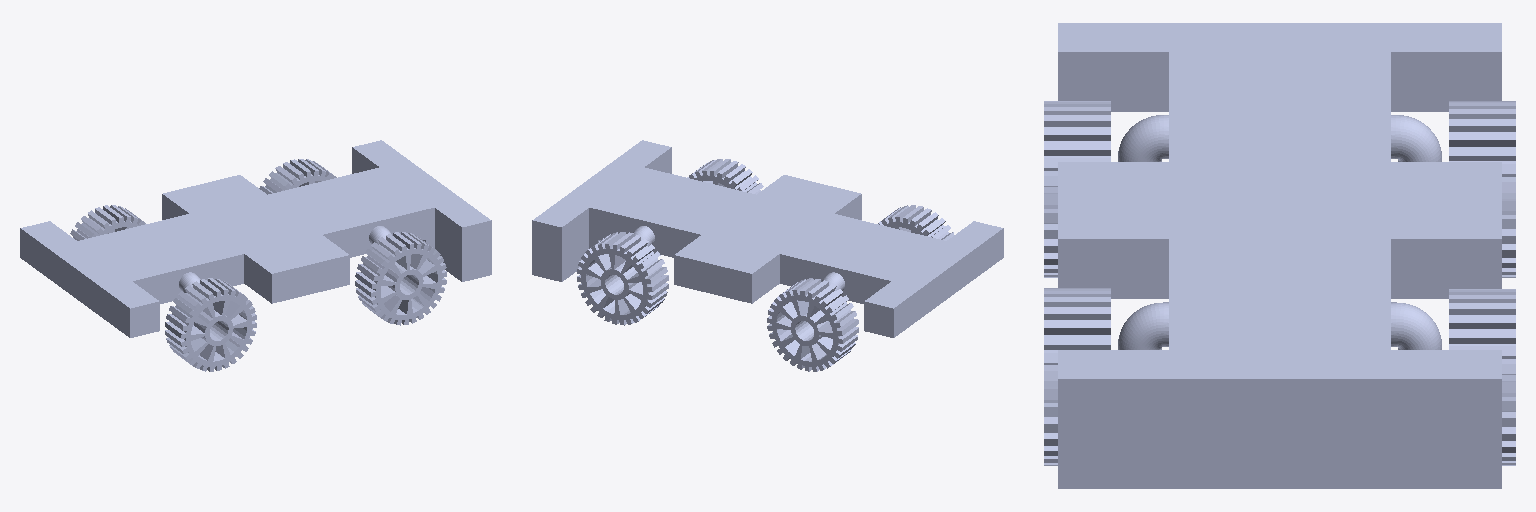
The robot description file, URDF, robot "optimus":
<?xml version="1.0" encoding="utf-8"?>
<!-- =================================================================================== -->
<!-- |    This document was autogenerated by xacro from optimus.urdf.xacro             | -->
<!-- |    EDITING THIS FILE BY HAND IS NOT RECOMMENDED                                 | -->
<!-- =================================================================================== -->
<robot name="optimus">
  <link name="base_link">
  </link>
  <joint name="base_link_joint" type="fixed">
    <origin rpy="0 0 0" xyz="0 0 0"/>
    <parent link="base_link"/>
    <child link="chassis_link"/>
  </joint>
  <link name="chassis_link">
    <inertial>
      <origin rpy="0 0 0" xyz="0.0459672296914867 -6.86455399960119E-18 0.159649135028823"/>
      <mass value="27.6398700040798"/>
      <inertia ixx="0.443915191264158" ixy="-4.98377702946499E-18" ixz="0.0794061625736433" iyy="2.52334514759194" iyz="-4.33942541392612E-18" izz="2.9153112034191"/>
    </inertial>
    <visual>
      <origin rpy="0 0 0" xyz="0 0 0"/>
      <geometry>
        <mesh filename="package://optimus/meshes/chassis_link.STL"/>
      </geometry>
      <material name="Gazebo/DarkGrey">
        <color rgba="0.792156862745098 0.819607843137255 0.933333333333333 1"/>
      </material>
    </visual>
    <collision>
      <origin rpy="0 0 0" xyz="0 0 0"/>
      <geometry>
        <mesh filename="package://optimus/meshes/chassis_link.STL"/>
      </geometry>
    </collision>
  </link>
  <link name="FR_mid_connector_link">
    <inertial>
      <origin rpy="0 0 0" xyz="-6.656468502797E-05 -0.025165065848375 -0.006584934151625"/>
      <mass value="0.111218290944422"/>
      <inertia ixx="4.72825951749508E-05" ixy="-4.70682175763755E-22" ixz="6.95276245951139E-22" iyy="4.15796957339012E-05" iyz="-8.78847811785193E-06" izz="4.15796957339012E-05"/>
    </inertial>
    <visual>
      <origin rpy="0 0 0" xyz="0 0 0"/>
      <geometry>
        <mesh filename="package://optimus/meshes/FR_mid_connector_link.STL"/>
      </geometry>
      <material name="">
        <color rgba="0.792156862745098 0.819607843137255 0.933333333333333 1"/>
      </material>
    </visual>
    <collision>
      <origin rpy="0 0 0" xyz="0 0 0"/>
      <geometry>
        <mesh filename="package://optimus/meshes/FR_mid_connector_link.STL"/>
      </geometry>
    </collision>
  </link>
  <joint name="FR_mid_connector_joint" type="fixed">
    <origin rpy="0 0 0" xyz="0.25407 -0.127 0.16555"/>
    <parent link="chassis_link"/>
    <child link="FR_mid_connector_link"/>
    <axis xyz="0 0 0"/>
  </joint>
  <link name="FR_wheel_connector_link">
    <inertial>
      <origin rpy="0 0 0" xyz="0 -0.00803311644068047 -0.025165065848375"/>
      <mass value="0.111218290944422"/>
      <inertia ixx="4.72825951749508E-05" ixy="-6.78684332773796E-22" ixz="-1.62847215507893E-22" iyy="4.15796957339012E-05" iyz="-8.78847811785193E-06" izz="4.15796957339012E-05"/>
    </inertial>
    <visual>
      <origin rpy="0 0 0" xyz="0 0 0"/>
      <geometry>
        <mesh filename="package://optimus/meshes/FR_wheel_connector_link.STL"/>
      </geometry>
      <material name="">
        <color rgba="0.792156862745098 0.819607843137255 0.933333333333333 1"/>
      </material>
    </visual>
    <collision>
      <origin rpy="0 0 0" xyz="0 0 0"/>
      <geometry>
        <mesh filename="package://optimus/meshes/FR_wheel_connector_link.STL"/>
      </geometry>
    </collision>
  </link>
  <joint name="FR_wheel_connector_joint" type="revolute">
    <origin rpy="0 0 0" xyz="-6.6565E-05 -0.033198 -0.03175"/>
    <parent link="FR_mid_connector_link"/>
    <child link="FR_wheel_connector_link"/>
    <axis xyz="0 0 1"/>
    <limit effort="10.0" lower="-0.6" upper="0.6" velocity="10.0"/>
    <!-- <dynamics
      friction="0.1"
      damping="0.1" /> -->
  </joint>
  <transmission name="FR_wheel_connector_trans">
    <type>transmission_interface/SimpleTransmission</type>
    <joint name="FR_wheel_connector_joint">
      <hardwareInterface>hardware_interface/PositionJointInterface</hardwareInterface>
    </joint>
    <actuator name="FR_wheel_connector_actuator">
      <mechanicalReduction>1</mechanicalReduction>
      <hardwareInterface>hardware_interface/PositionJointInterface</hardwareInterface>
    </actuator>
  </transmission>
  <link name="FR_wheel_link">
    <inertial>
      <origin rpy="0 0 0" xyz="-6.65646850267487E-05 -0.0381000000000005 -0.00144818228905787"/>
      <mass value="1.37478617203279"/>
      <inertia ixx="0.00468685600007827" ixy="-1.44994942300076E-18" ixz="-7.59946436264757E-19" iyy="0.00804327643003352" iyz="-3.6201576967064E-18" izz="0.00468685600007826"/>
    </inertial>
    <visual>
      <origin rpy="0 0 0" xyz="0 0 0"/>
      <geometry>
        <mesh filename="package://optimus/meshes/FR_wheel_link.STL"/>
      </geometry>
      <material name="">
        <color rgba="0.792156862745098 0.819607843137255 0.933333333333333 1"/>
      </material>
    </visual>
    <collision>
      <origin rpy="0 0 0" xyz="0 0 0"/>
      <geometry>
        <mesh filename="package://optimus/meshes/FR_wheel_link.STL"/>
      </geometry>
    </collision>
  </link>
  <joint name="FR_wheel_joint" type="continuous">
    <origin rpy="0 0 0" xyz="6.656468502797E-05 -0.0331981822890555 -0.03175"/>
    <parent link="FR_wheel_connector_link"/>
    <child link="FR_wheel_link"/>
    <axis xyz="0 1 0"/>
  </joint>
  <transmission name="FR_wheel_trans">
    <type>transmission_interface/SimpleTransmission</type>
    <joint name="FR_wheel_joint">
      <hardwareInterface>hardware_interface/VelocityJointInterface</hardwareInterface>
    </joint>
    <actuator name="FR_wheel_actuator">
      <mechanicalReduction>1</mechanicalReduction>
      <hardwareInterface>hardware_interface/VelocityJointInterface</hardwareInterface>
    </actuator>
  </transmission>
  <link name="FL_mid_connector_link">
    <inertial>
      <origin rpy="0 0 0" xyz="0 0.025165065848375 -0.00803311644068052"/>
      <mass value="0.111218290944422"/>
      <inertia ixx="4.72825951749508E-05" ixy="-4.78762785695293E-22" ixz="-2.46370706228464E-21" iyy="4.15796957339013E-05" iyz="8.78847811785194E-06" izz="4.15796957339012E-05"/>
    </inertial>
    <visual>
      <origin rpy="0 0 0" xyz="0 0 0"/>
      <geometry>
        <mesh filename="package://optimus/meshes/FL_mid_connector_link.STL"/>
      </geometry>
      <material name="">
        <color rgba="0.792156862745098 0.819607843137255 0.933333333333333 1"/>
      </material>
    </visual>
    <collision>
      <origin rpy="0 0 0" xyz="0 0 0"/>
      <geometry>
        <mesh filename="package://optimus/meshes/FL_mid_connector_link.STL"/>
      </geometry>
    </collision>
  </link>
  <joint name="FL_mid_connector_joint" type="fixed">
    <origin rpy="0 0 0" xyz="0.254 0.127 0.167"/>
    <parent link="chassis_link"/>
    <child link="FL_mid_connector_link"/>
    <axis xyz="0 0 0"/>
  </joint>
  <link name="FL_wheel_connector_link">
    <inertial>
      <origin rpy="0 0 0" xyz="-6.656468502797E-05 0.00948129872973585 -0.025165065848375"/>
      <mass value="0.111218290944422"/>
      <inertia ixx="4.72825951749508E-05" ixy="1.429851898539E-21" ixz="4.86705630527466E-22" iyy="4.15796957339013E-05" iyz="8.78847811785193E-06" izz="4.15796957339012E-05"/>
    </inertial>
    <visual>
      <origin rpy="0 0 0" xyz="0 0 0"/>
      <geometry>
        <mesh filename="package://optimus/meshes/FL_wheel_connector_link.STL"/>
      </geometry>
      <material name="">
        <color rgba="0.792156862745098 0.819607843137255 0.933333333333333 1"/>
      </material>
    </visual>
    <collision>
      <origin rpy="0 0 0" xyz="0 0 0"/>
      <geometry>
        <mesh filename="package://optimus/meshes/FL_wheel_connector_link.STL"/>
      </geometry>
    </collision>
  </link>
  <joint name="FL_wheel_connector_joint" type="revolute">
    <origin rpy="0 0 0" xyz="6.6565E-05 0.03175 -0.033198"/>
    <parent link="FL_mid_connector_link"/>
    <child link="FL_wheel_connector_link"/>
    <axis xyz="0 0 1"/>
    <limit effort="10.0" lower="-0.6" upper="0.6" velocity="10.0"/>
    <!-- <dynamics
      friction="0.1"
      damping="0.1" /> -->
  </joint>
  <transmission name="FL_wheel_connector_trans">
    <type>transmission_interface/SimpleTransmission</type>
    <joint name="FL_wheel_connector_joint">
      <hardwareInterface>hardware_interface/PositionJointInterface</hardwareInterface>
    </joint>
    <actuator name="FL_wheel_connector_actuator">
      <mechanicalReduction>1</mechanicalReduction>
      <hardwareInterface>hardware_interface/PositionJointInterface</hardwareInterface>
    </actuator>
  </transmission>
  <link name="FL_wheel_link">
    <inertial>
      <origin rpy="0 0 0" xyz="-1.38777878078145E-15 0.0381000000000001 2.0122792321331E-15"/>
      <mass value="1.37478617203279"/>
      <inertia ixx="0.00468685600007827" ixy="-2.15687431241997E-18" ixz="-2.05140791913338E-19" iyy="0.00804327643003352" iyz="-3.30768332749193E-19" izz="0.00468685600007827"/>
    </inertial>
    <visual>
      <origin rpy="0 0 0" xyz="0 0 0"/>
      <geometry>
        <mesh filename="package://optimus/meshes/FL_wheel_link.STL"/>
      </geometry>
      <material name="">
        <color rgba="0.792156862745098 0.819607843137255 0.933333333333333 1"/>
      </material>
    </visual>
    <collision>
      <origin rpy="0 0 0" xyz="0 0 0"/>
      <geometry>
        <mesh filename="package://optimus/meshes/FL_wheel_link.STL"/>
      </geometry>
    </collision>
  </link>
  <joint name="FL_wheel_joint" type="continuous">
    <origin rpy="0 0 0" xyz="-6.6565E-05 0.034646 -0.033198"/>
    <parent link="FL_wheel_connector_link"/>
    <child link="FL_wheel_link"/>
    <axis xyz="0 1 0"/>
  </joint>
  <transmission name="FL_wheel_trans">
    <type>transmission_interface/SimpleTransmission</type>
    <joint name="FL_wheel_joint">
      <hardwareInterface>hardware_interface/VelocityJointInterface</hardwareInterface>
    </joint>
    <actuator name="FL_wheel_actuator">
      <mechanicalReduction>1</mechanicalReduction>
      <hardwareInterface>hardware_interface/VelocityJointInterface</hardwareInterface>
    </actuator>
  </transmission>
  <link name="RR_mid_connector_link">
    <inertial>
      <origin rpy="0 0 0" xyz="-6.656468502797E-05 -0.025165065848375 -0.00658493415162501"/>
      <mass value="0.111218290944422"/>
      <inertia ixx="4.72825951749508E-05" ixy="-1.20292624299967E-21" ixz="-2.62828261983991E-21" iyy="4.15796957339012E-05" iyz="-8.78847811785193E-06" izz="4.15796957339012E-05"/>
    </inertial>
    <visual>
      <origin rpy="0 0 0" xyz="0 0 0"/>
      <geometry>
        <mesh filename="package://optimus/meshes/RR_mid_connector_link.STL"/>
      </geometry>
      <material name="">
        <color rgba="0.792156862745098 0.819607843137255 0.933333333333333 1"/>
      </material>
    </visual>
    <collision>
      <origin rpy="0 0 0" xyz="0 0 0"/>
      <geometry>
        <mesh filename="package://optimus/meshes/RR_mid_connector_link.STL"/>
      </geometry>
    </collision>
  </link>
  <joint name="RR_mid_connector_joint" type="fixed">
    <origin rpy="0 0 0" xyz="-0.25395 -0.127 0.16555"/>
    <parent link="chassis_link"/>
    <child link="RR_mid_connector_link"/>
    <axis xyz="0 0 0"/>
  </joint>
  <link name="RR_wheel_connector_link">
    <inertial>
      <origin rpy="0 0 0" xyz="-1.66533453693773E-16 -0.00803311644068039 -0.025165065848375"/>
      <mass value="0.111218290944422"/>
      <inertia ixx="4.72825951749508E-05" ixy="-2.88105234958646E-21" ixz="3.86153412936947E-21" iyy="4.15796957339012E-05" iyz="-8.78847811785193E-06" izz="4.15796957339012E-05"/>
    </inertial>
    <visual>
      <origin rpy="0 0 0" xyz="0 0 0"/>
      <geometry>
        <mesh filename="package://optimus/meshes/RR_wheel_connector_link.STL"/>
      </geometry>
      <material name="">
        <color rgba="0.792156862745098 0.819607843137255 0.933333333333333 1"/>
      </material>
    </visual>
    <collision>
      <origin rpy="0 0 0" xyz="0 0 0"/>
      <geometry>
        <mesh filename="package://optimus/meshes/RR_wheel_connector_link.STL"/>
      </geometry>
    </collision>
  </link>
  <joint name="RR_wheel_connector_joint" type="fixed">
    <origin rpy="0 0 0" xyz="-6.6565E-05 -0.033198 -0.03175"/>
    <parent link="RR_mid_connector_link"/>
    <child link="RR_wheel_connector_link"/>
    <axis xyz="0 0 0"/>
  </joint>
  <link name="RR_wheel_link">
    <inertial>
      <origin rpy="0 0 0" xyz="-6.65646850281365E-05 -0.0381000000000002 -0.00144818228905499"/>
      <mass value="1.37478617203279"/>
      <inertia ixx="0.00468685600007826" ixy="-6.65290787924846E-19" ixz="3.27149932264726E-18" iyy="0.00804327643003351" iyz="2.61538024465355E-18" izz="0.00468685600007826"/>
    </inertial>
    <visual>
      <origin rpy="0 0 0" xyz="0 0 0"/>
      <geometry>
        <mesh filename="package://optimus/meshes/RR_wheel_link.STL"/>
      </geometry>
      <material name="">
        <color rgba="0.792156862745098 0.819607843137255 0.933333333333333 1"/>
      </material>
    </visual>
    <collision>
      <origin rpy="0 0 0" xyz="0 0 0"/>
      <geometry>
        <mesh filename="package://optimus/meshes/RR_wheel_link.STL"/>
      </geometry>
    </collision>
  </link>
  <joint name="RR_wheel_joint" type="continuous">
    <origin rpy="0 0 0" xyz="6.65646850278034E-05 -0.0331981822890554 -0.03175"/>
    <parent link="RR_wheel_connector_link"/>
    <child link="RR_wheel_link"/>
    <axis xyz="0 1 0"/>
  </joint>
  <transmission name="RR_wheel_trans">
    <type>transmission_interface/SimpleTransmission</type>
    <joint name="RR_wheel_joint">
      <hardwareInterface>hardware_interface/VelocityJointInterface</hardwareInterface>
    </joint>
    <actuator name="RR_wheel_actuator">
      <mechanicalReduction>1</mechanicalReduction>
      <hardwareInterface>hardware_interface/VelocityJointInterface</hardwareInterface>
    </actuator>
  </transmission>
  <link name="RL_mid_connector_link">
    <inertial>
      <origin rpy="0 0 0" xyz="0 0.025165065848375 -0.00803311644068054"/>
      <mass value="0.111218290944422"/>
      <inertia ixx="4.72825951749508E-05" ixy="3.30759716400942E-22" ixz="1.85365958576505E-21" iyy="4.15796957339013E-05" iyz="8.78847811785193E-06" izz="4.15796957339012E-05"/>
    </inertial>
    <visual>
      <origin rpy="0 0 0" xyz="0 0 0"/>
      <geometry>
        <mesh filename="package://optimus/meshes/RL_mid_connector_link.STL"/>
      </geometry>
      <material name="">
        <color rgba="0.792156862745098 0.819607843137255 0.933333333333333 1"/>
      </material>
    </visual>
    <collision>
      <origin rpy="0 0 0" xyz="0 0 0"/>
      <geometry>
        <mesh filename="package://optimus/meshes/RL_mid_connector_link.STL"/>
      </geometry>
    </collision>
  </link>
  <joint name="RL_mid_connector_joint" type="fixed">
    <origin rpy="0 0 0" xyz="-0.25402097517419 0.127 0.16700000001"/>
    <parent link="chassis_link"/>
    <child link="RL_mid_connector_link"/>
    <axis xyz="0 0 0"/>
  </joint>
  <link name="RL_wheel_connector_link">
    <inertial>
      <origin rpy="0 0 0" xyz="-6.65646850279145E-05 0.0094812987297358 -0.025165065848375"/>
      <mass value="0.111218290944422"/>
      <inertia ixx="4.72825951749508E-05" ixy="4.53719304107114E-21" ixz="-9.96908056445756E-22" iyy="4.15796957339013E-05" iyz="8.78847811785192E-06" izz="4.15796957339012E-05"/>
    </inertial>
    <visual>
      <origin rpy="0 0 0" xyz="0 0 0"/>
      <geometry>
        <mesh filename="package://optimus/meshes/RL_wheel_connector_link.STL"/>
      </geometry>
      <material name="">
        <color rgba="0.792156862745098 0.819607843137255 0.933333333333333 1"/>
      </material>
    </visual>
    <collision>
      <origin rpy="0 0 0" xyz="0 0 0"/>
      <geometry>
        <mesh filename="package://optimus/meshes/RL_wheel_connector_link.STL"/>
      </geometry>
    </collision>
  </link>
  <joint name="RL_wheel_connector_joint" type="fixed">
    <origin rpy="0 0 0" xyz="6.656468502797E-05 0.0317499999999999 -0.0331981822890556"/>
    <parent link="RL_mid_connector_link"/>
    <child link="RL_wheel_connector_link"/>
    <axis xyz="0 0 0"/>
  </joint>
  <link name="RL_wheel_link">
    <inertial>
      <origin rpy="0 0 0" xyz="2.77555756156289E-16 0.0381 0"/>
      <mass value="1.37478617203279"/>
      <inertia ixx="0.00468685600007826" ixy="6.23781132713421E-19" ixz="2.59403840096632E-18" iyy="0.00804327643003351" iyz="1.35884787850143E-18" izz="0.00468685600007826"/>
    </inertial>
    <visual>
      <origin rpy="0 0 0" xyz="0 0 0"/>
      <geometry>
        <mesh filename="package://optimus/meshes/RL_wheel_link.STL"/>
      </geometry>
      <material name="">
        <color rgba="0.792156862745098 0.819607843137255 0.933333333333333 1"/>
      </material>
    </visual>
    <collision>
      <origin rpy="0 0 0" xyz="0 0 0"/>
      <geometry>
        <mesh filename="package://optimus/meshes/RL_wheel_link.STL"/>
      </geometry>
    </collision>
  </link>
  <joint name="RL_wheel_joint" type="continuous">
    <origin rpy="0 0 0" xyz="-6.65646850279145E-05 0.0346463645781108 -0.0331981822890555"/>
    <parent link="RL_wheel_connector_link"/>
    <child link="RL_wheel_link"/>
    <axis xyz="0 1 0"/>
  </joint>
  <transmission name="RL_wheel_trans">
    <type>transmission_interface/SimpleTransmission</type>
    <joint name="RL_wheel_joint">
      <hardwareInterface>hardware_interface/VelocityJointInterface</hardwareInterface>
    </joint>
    <actuator name="RL_wheel_actuator">
      <mechanicalReduction>1</mechanicalReduction>
      <hardwareInterface>hardware_interface/VelocityJointInterface</hardwareInterface>
    </actuator>
  </transmission>
  <gazebo reference="chassis_link">
    <material>Gazebo/Grey</material>
  </gazebo>
  <gazebo reference="FL_wheel_link">
    <material>Gazebo/DarkGrey</material>
  </gazebo>
  <gazebo reference="FL_mid_connector_link">
    <material>Gazebo/Red</material>
  </gazebo>
  <gazebo reference="FL_wheel_connector_link">
    <material>Gazebo/Red</material>
  </gazebo>
  <gazebo reference="FR_wheel_link">
    <material>Gazebo/DarkGrey</material>
  </gazebo>
  <gazebo reference="FR_mid_connector_link">
    <material>Gazebo/Red</material>
  </gazebo>
  <gazebo reference="FR_wheel_connector_link">
    <material>Gazebo/Red</material>
  </gazebo>
  <gazebo reference="RL_wheel_link">
    <material>Gazebo/DarkGrey</material>
  </gazebo>
  <gazebo reference="RL_mid_connector_link">
    <material>Gazebo/Red</material>
  </gazebo>
  <gazebo reference="RL_wheel_connector_link">
    <material>Gazebo/Red</material>
  </gazebo>
  <gazebo reference="RR_wheel_link">
    <material>Gazebo/DarkGrey</material>
  </gazebo>
  <gazebo reference="RR_mid_connector_link">
    <material>Gazebo/Red</material>
  </gazebo>
  <gazebo reference="RR_wheel_connector_link">
    <material>Gazebo/Red</material>
  </gazebo>
  <link name="base_laser">
    <inertial>
      <origin rpy="0 0 0" xyz="-0.00029774 0.0066667 0.00013047"/>
      <mass value="0.15717"/>
      <inertia ixx="6.7885E-05" ixy="-1.3987E-07" ixz="-8.1554E-07" iyy="0.00013173" iyz="-9.0932E-08" izz="7.1972E-05"/>
    </inertial>
    <visual>
      <origin rpy="0 0 0" xyz="0 0 0"/>
      <geometry>
        <mesh filename="package://optimus/meshes/ydlidar.dae"/>
      </geometry>
      <material name="">
        <color rgba="0.64706 0.61961 0.58824 1"/>
      </material>
    </visual>
    <collision>
      <origin rpy="0 0 0" xyz="0 0 0"/>
      <geometry>
        <mesh filename="package://optimus/meshes/ydlidar.dae"/>
      </geometry>
    </collision>
  </link>
  <link name="laser_frame">
    <inertial>
      <origin rpy="0 0 0" xyz="-0.00036659 0.00064155 -0.00027052"/>
      <mass value="0.25482"/>
      <inertia ixx="8.9194E-05" ixy="1.8116E-07" ixz="3.6435E-08" iyy="0.00018279" iyz="2.423E-07" izz="0.00011103"/>
    </inertial>
    <!--visual>
      <origin
        xyz="0 0 0"
        rpy="0 0 0" />
      <geometry>
        <mesh
          filename="package://ydlidar_ros/meshes/ydlidar.dae" />
      </geometry>
      <material
        name="">
        <color
          rgba="0.64706 0.61961 0.58824 1" />
      </material>
    </visual-->
    <!--collision>
      <origin
        xyz="0 0 0"
        rpy="0 0 0" />
      <geometry>
        <mesh
          filename="package://ydlidar_ros/meshes/ydlidar.dae" />
      </geometry>
    </collision-->
  </link>
  <joint name="laser_joint" type="fixed">
    <origin rpy="0 0 0" xyz="0 0 0.03172"/>
    <parent link="base_laser"/>
    <child link="laser_frame"/>
    <axis xyz="0 0 0"/>
  </joint>
  <!-- Add your gazebo sensors here -->
  <gazebo reference="base_laser">
    <!-- <gravity>true</gravity> -->
    <sensor name="laser" type="ray">
      <!-- Add in your sensor characteristics -->
      <pose> 0 0 0 0 0 0 </pose>
      <visualise>true</visualise>
      <update_rate>40</update_rate>
      <!-- <always_on>true</always_on> -->
      <ray>
        <scan>
          <horizontal>
            <samples>720</samples>
            <resolution>1</resolution>
            <min_angle>-1.570796</min_angle>
            <max_angle>1.570796</max_angle>
          </horizontal>
        </scan>
        <range>
          <min>0.10</min>
          <max>30.0</max>
          <resolution>0.01</resolution>
        </range>
        <noise>
          <type>gaussian</type>
          <mean>0.0</mean>
          <stddev>0.01</stddev>
        </noise>
      </ray>
      <plugin filename="libgazebo_ros_laser.so" name="gazebo_ros_head_hokuyo_controller">
        <!-- Use topic name as /my_robot/scan -->
        <topicName>/optimus/scan</topicName>
        <frameName>laser_frame</frameName>
      </plugin>
    </sensor>
  </gazebo>
  <gazebo>
    <plugin filename="libgazebo_ros_p3d.so" name="p3d_base_controller">
      <updateRate>50.0</updateRate>
      <bodyName>base_link</bodyName>
      <topicName>base_pose_ground_truth</topicName>
      <gaussianNoise>0.01</gaussianNoise>
      <frameName>map</frameName>
    </plugin>
  </gazebo>
  <!--  Gazebo plugin for control here is already added for you -->
  <gazebo>
    <plugin filename="libgazebo_ros_control.so" name="gazebo_ros_control">
      <robotNamespace>/</robotNamespace>
      <robotSimType>gazebo_ros_control/DefaultRobotHWSim</robotSimType>
      <legacyModeNS>true</legacyModeNS>
    </plugin>
  </gazebo>
  <!-- Create a joint between your robot and sensor -->
  <joint name="lidar_joint" type="fixed">
    <origin rpy="0.0 0 0.0" xyz="0.0 0.0 0.2101"/>
    <parent link="chassis_link"/>
    <child link="base_laser"/>
    <axis xyz="0 0 0"/>
  </joint>
</robot>

--- Facts derived from the render (not from the file) ---
3 views of the same robot in one strip: view 1: azimuth 30°, elevation 25°; view 2: azimuth 150°, elevation 25°; view 3: azimuth 270°, elevation 25° (orthographic).
Robot: optimus — 16 links, 15 joints (2 revolute, 4 continuous, 9 fixed); root link base_link; default pose: every joint at zero.
Links seen in each view (by area): view 1: chassis_link, FR_wheel_link, RR_wheel_link, FL_wheel_link, RL_wheel_link; view 2: chassis_link, FL_wheel_link, RL_wheel_link, RR_wheel_link, FR_wheel_link; view 3: chassis_link, FR_wheel_link, FL_wheel_link, RR_wheel_link, RL_wheel_link, FR_mid_connector_link, FL_mid_connector_link, RL_mid_connector_link, RR_mid_connector_link.
Link boxes in pixels (box(x1,y1,x2,y2)): chassis_link: box(20, 140, 491, 337); FR_wheel_link: box(355, 232, 446, 325); RR_wheel_link: box(165, 278, 256, 371); FL_wheel_link: box(259, 159, 336, 194); RL_wheel_link: box(70, 205, 145, 240); chassis_link: box(532, 140, 1003, 337); FL_wheel_link: box(577, 232, 668, 325); RL_wheel_link: box(767, 278, 858, 371); RR_wheel_link: box(878, 205, 953, 240); FR_wheel_link: box(687, 159, 763, 194); chassis_link: box(1058, 23, 1501, 488); FR_wheel_link: box(1044, 288, 1110, 465); FL_wheel_link: box(1449, 289, 1515, 465); RR_wheel_link: box(1044, 101, 1110, 277); RL_wheel_link: box(1449, 101, 1515, 277); FR_mid_connector_link: box(1118, 302, 1168, 349); FL_mid_connector_link: box(1391, 302, 1441, 349); RL_mid_connector_link: box(1391, 115, 1441, 161); RR_mid_connector_link: box(1118, 115, 1168, 161).
Size in the robot's own frame: 0.9652 by 0.5392 by 0.2061 metres.
Meshes: 14 distinct files referenced, 13 mesh visuals loaded (13 binary STL); not drawn: 1 (reference not matched to a file when rendering).
